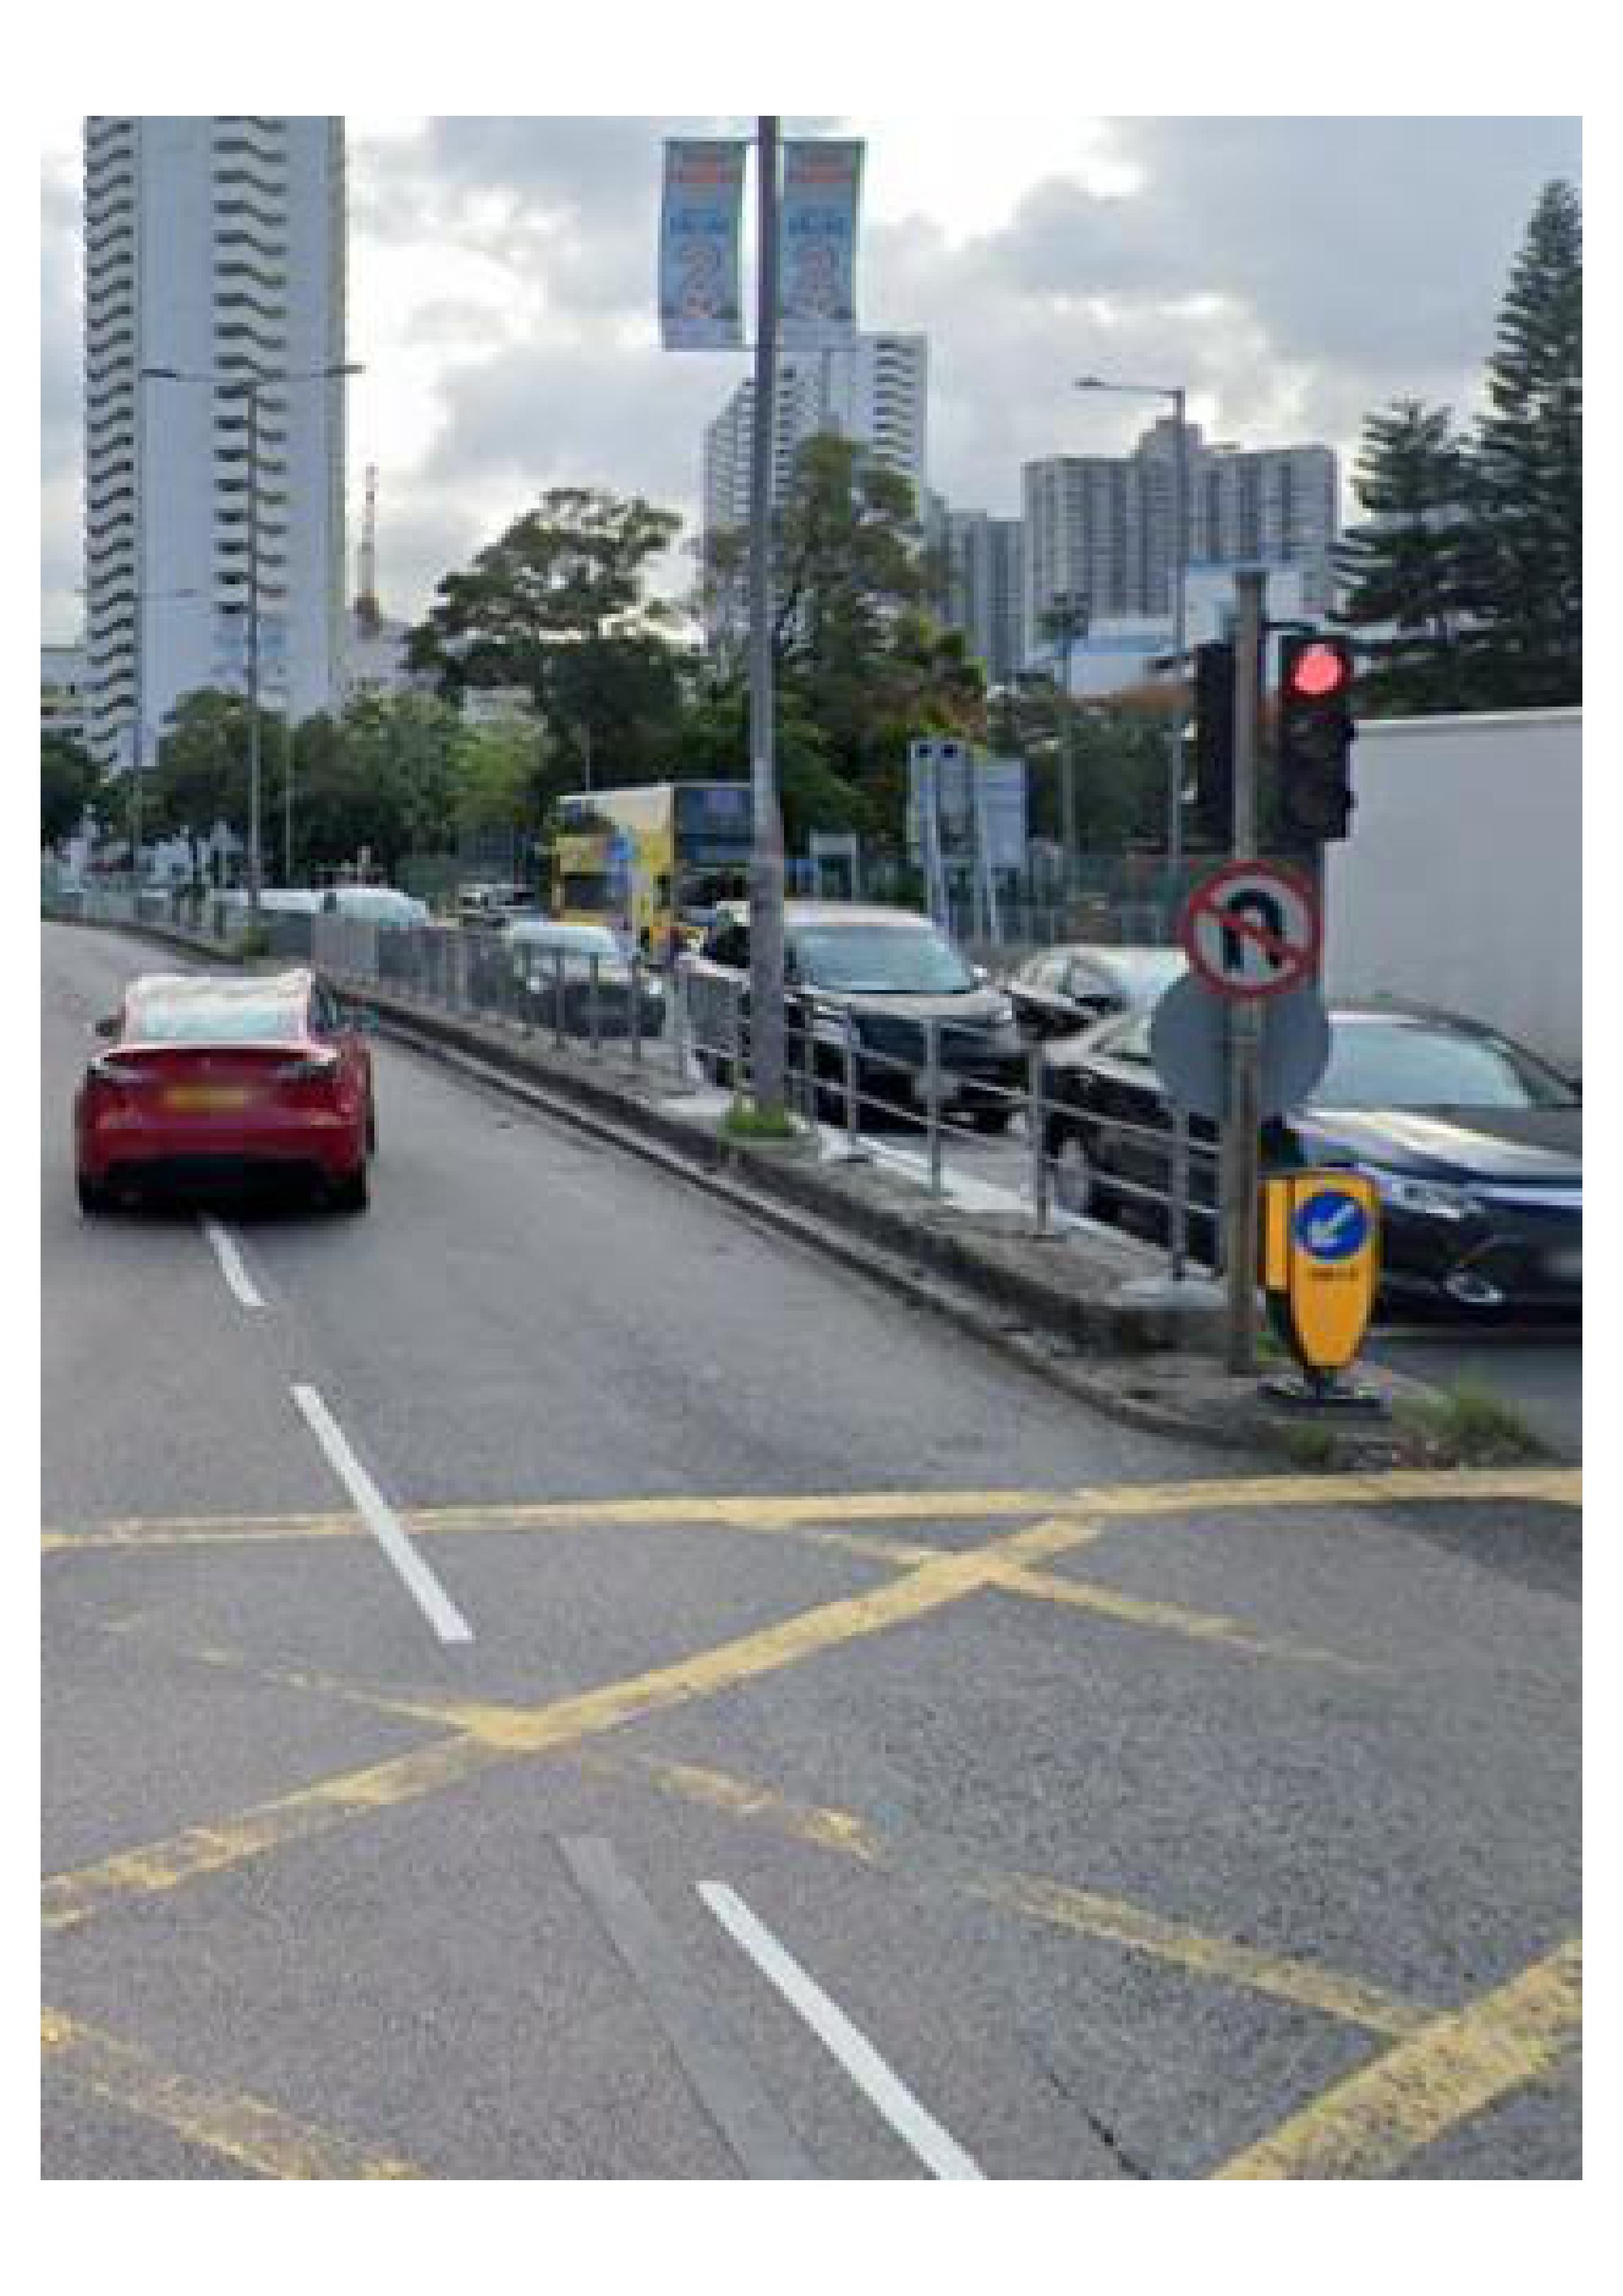No Uturn: (1173, 855, 1333, 1002)
